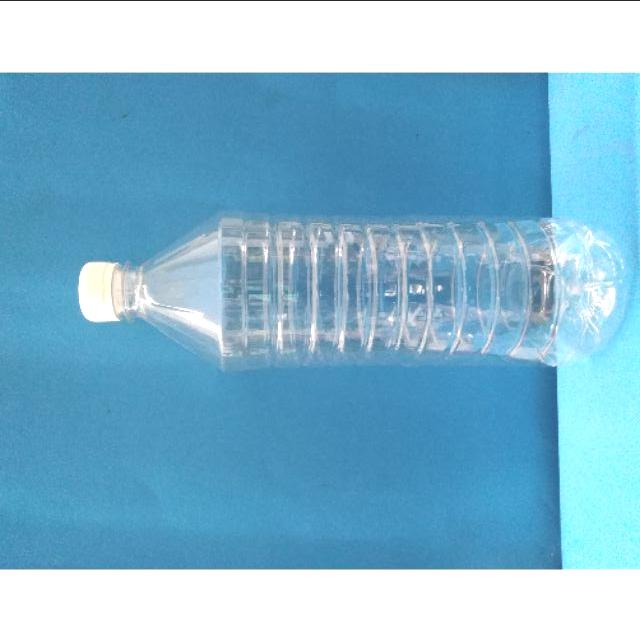bottle: (63, 195, 633, 384)
